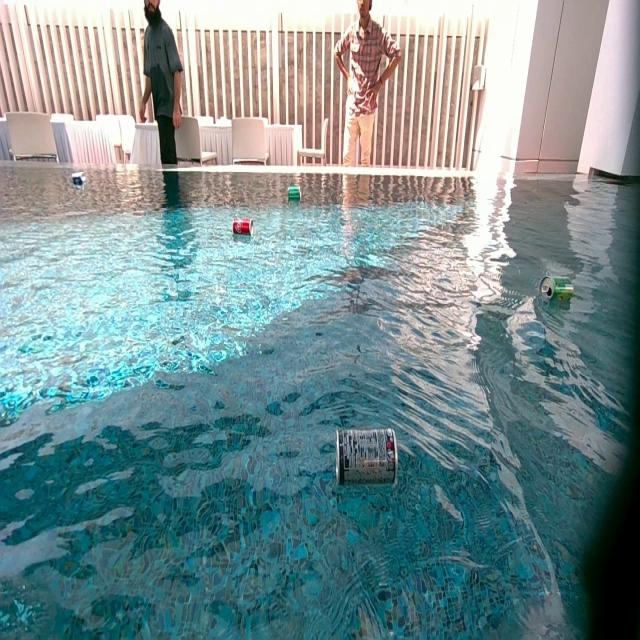Cans: (336, 424, 398, 488), (541, 275, 575, 304), (233, 220, 253, 236), (71, 172, 85, 185), (288, 185, 300, 200)
